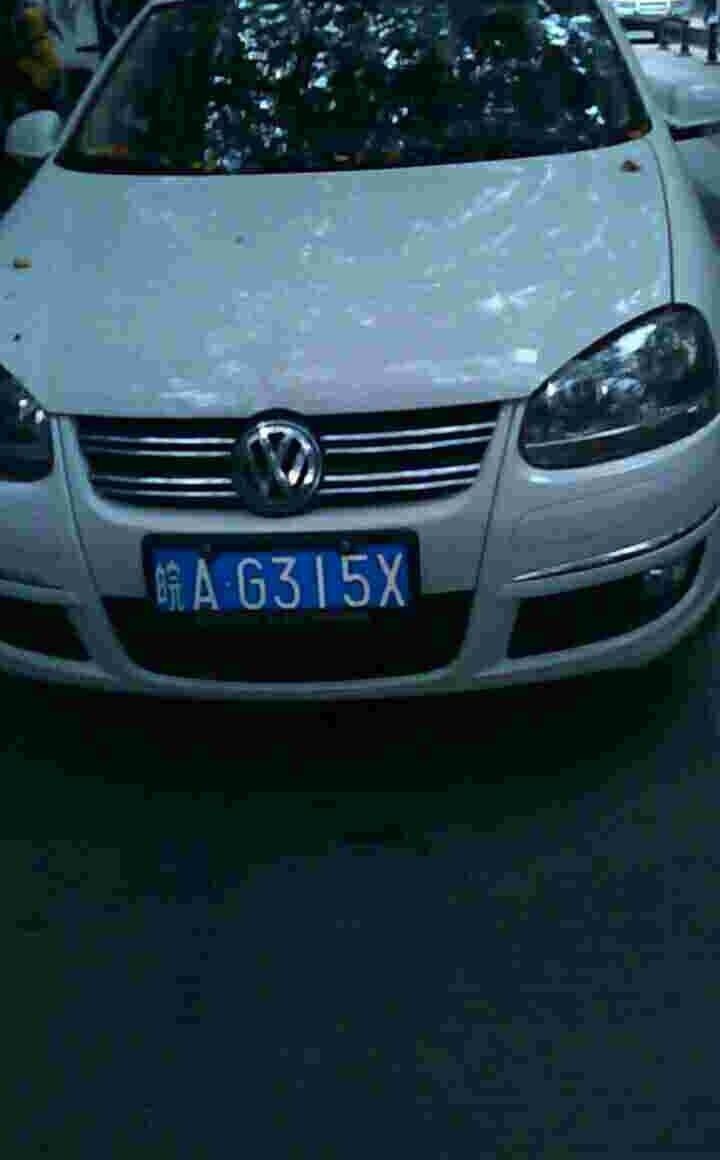plate: (144, 536, 423, 629)
